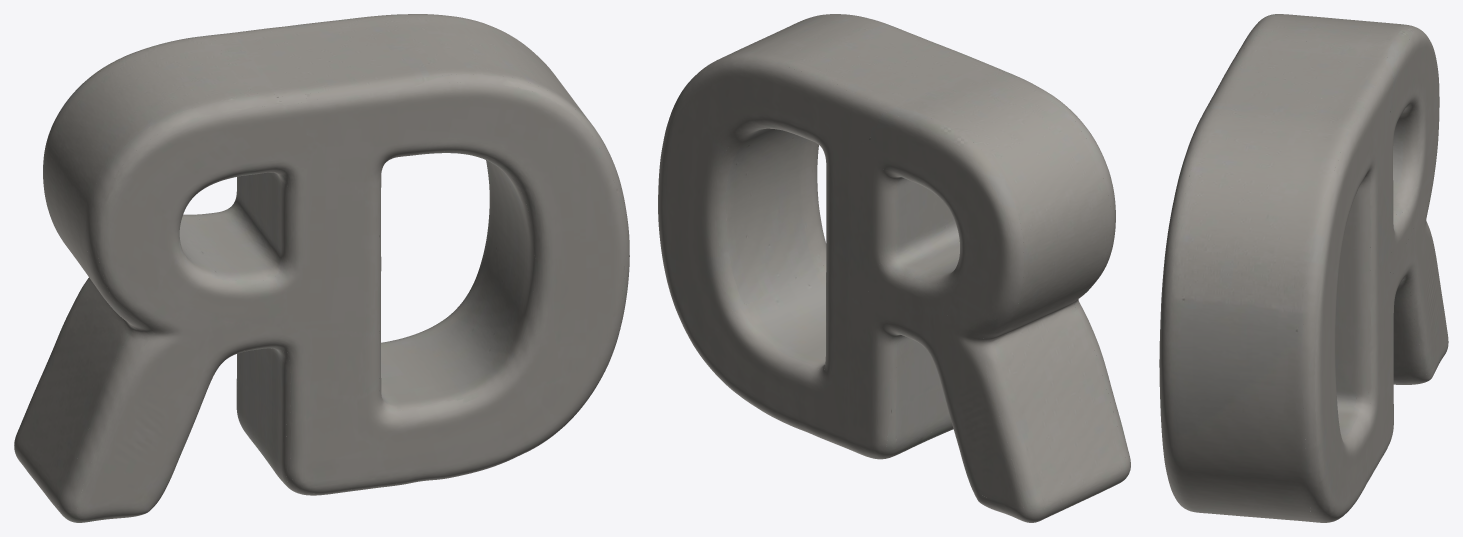
File: metal-letter-opt.glb
The picture shows the model from 3 angles, left to right: view 1: azimuth 30°, elevation 25°; view 2: azimuth 150°, elevation 25°; view 3: azimuth 270°, elevation 25°; orthographic projection. The views are drawn at different scales.
Parts seen in each view (by area): view 1: tripo_part_2, tripo_part_3, tripo_part_11, tripo_part_37, tripo_part_36, tripo_part_20, tripo_part_33, tripo_part_30, tripo_part_32; view 2: tripo_part_33, tripo_part_3, tripo_part_26, tripo_part_20, tripo_part_11, tripo_part_37, tripo_part_36, tripo_part_62, tripo_part_60, tripo_part_32; view 3: tripo_part_11, tripo_part_33, tripo_part_26, tripo_part_3, tripo_part_37, tripo_part_30, tripo_part_60, tripo_part_32, tripo_part_2, tripo_part_62.
Boxes of the visible parts, box(x1,y1,x2,y2) form: tripo_part_2: box(76, 81, 624, 519); tripo_part_3: box(14, 36, 287, 515); tripo_part_11: box(211, 14, 616, 495); tripo_part_37: box(379, 161, 512, 411); tripo_part_36: box(58, 94, 308, 522); tripo_part_20: box(388, 151, 535, 358); tripo_part_33: box(81, 172, 526, 415); tripo_part_30: box(302, 74, 629, 495); tripo_part_32: box(179, 214, 216, 263); tripo_part_33: box(658, 58, 1023, 509); tripo_part_3: box(895, 70, 1126, 522); tripo_part_26: box(867, 112, 1011, 338); tripo_part_20: box(725, 128, 826, 304); tripo_part_11: box(705, 14, 998, 220); tripo_part_37: box(739, 264, 826, 366); tripo_part_36: box(877, 59, 1130, 480); tripo_part_62: box(883, 106, 1024, 346); tripo_part_60: box(716, 127, 826, 371); tripo_part_32: box(915, 257, 959, 283); tripo_part_11: box(1169, 39, 1388, 522); tripo_part_33: box(1301, 64, 1448, 522); tripo_part_26: box(1390, 30, 1439, 274); tripo_part_3: box(1254, 14, 1448, 398); tripo_part_37: box(1335, 221, 1359, 440); tripo_part_30: box(1160, 59, 1236, 511); tripo_part_60: box(1354, 172, 1371, 413); tripo_part_32: box(1393, 110, 1417, 216); tripo_part_2: box(1159, 22, 1258, 500); tripo_part_62: box(1385, 25, 1422, 70).
Bounding box in the file's own units: 0.4392 × 0.3271 × 0.2239.
Materials: 12 (12 with a texture image).
